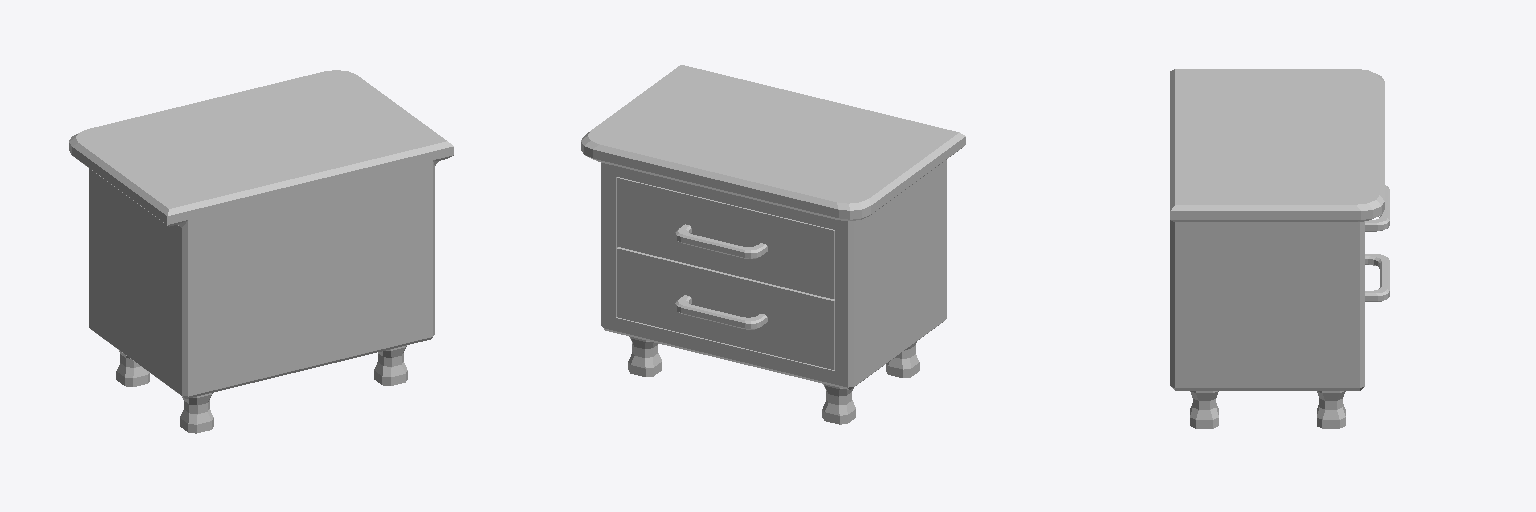
File: Night_Stand.obj
The picture shows the model from 3 angles: view 1: azimuth 30°, elevation 25°; view 2: azimuth 150°, elevation 25°; view 3: azimuth 270°, elevation 25°; orthographic projection.
Parts seen in each view (by area): view 1: Night_Stand; view 2: Night_Stand; view 3: Night_Stand.
Boxes of the visible parts, box(x1,y1,x2,y2) form: Night_Stand: box(69, 70, 453, 433); Night_Stand: box(581, 65, 965, 424); Night_Stand: box(1170, 69, 1389, 428).
Size of the model in its own units: 68 by 54 by 45.